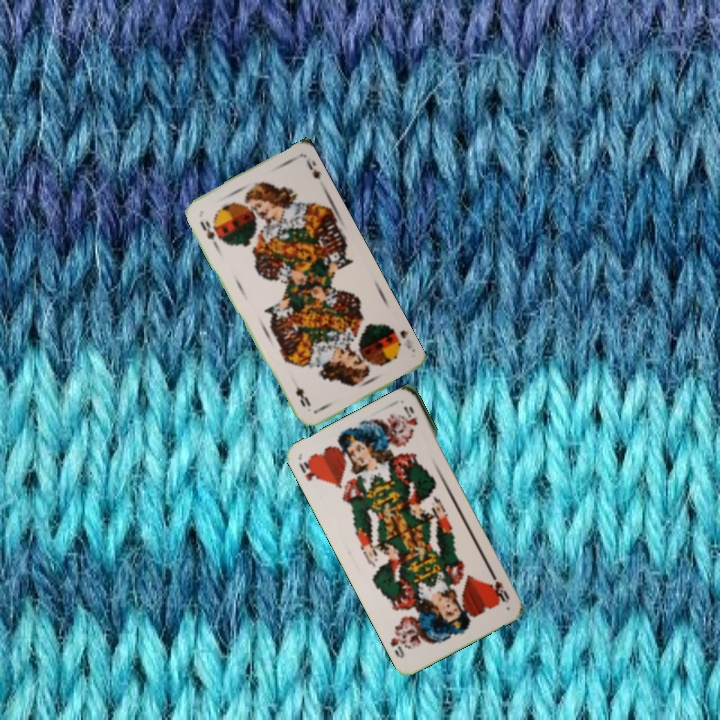HO: (487, 568, 512, 605), (295, 455, 322, 484)
SO: (385, 323, 417, 355), (196, 216, 220, 249)
